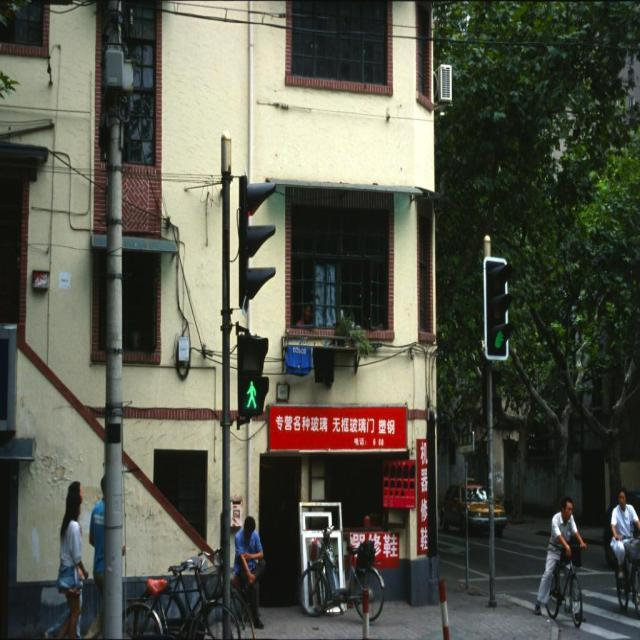off traffic light: (239, 175, 276, 311)
traffic light: (484, 256, 513, 360), (239, 336, 269, 413)
